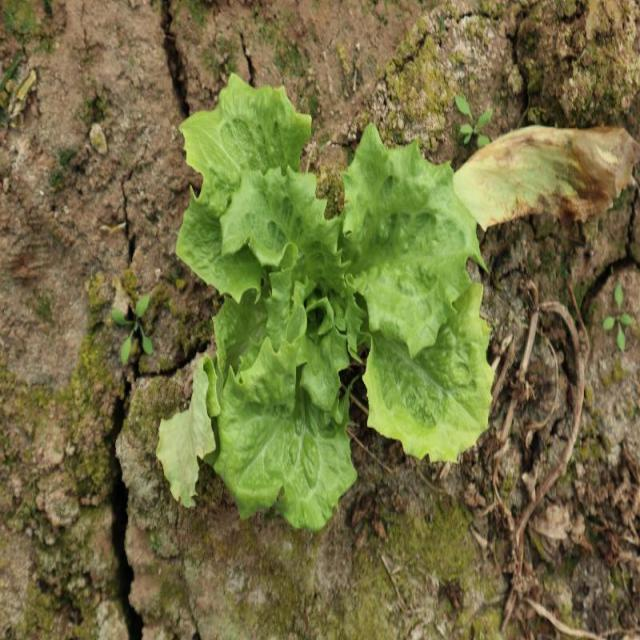crop: (158, 68, 502, 533)
